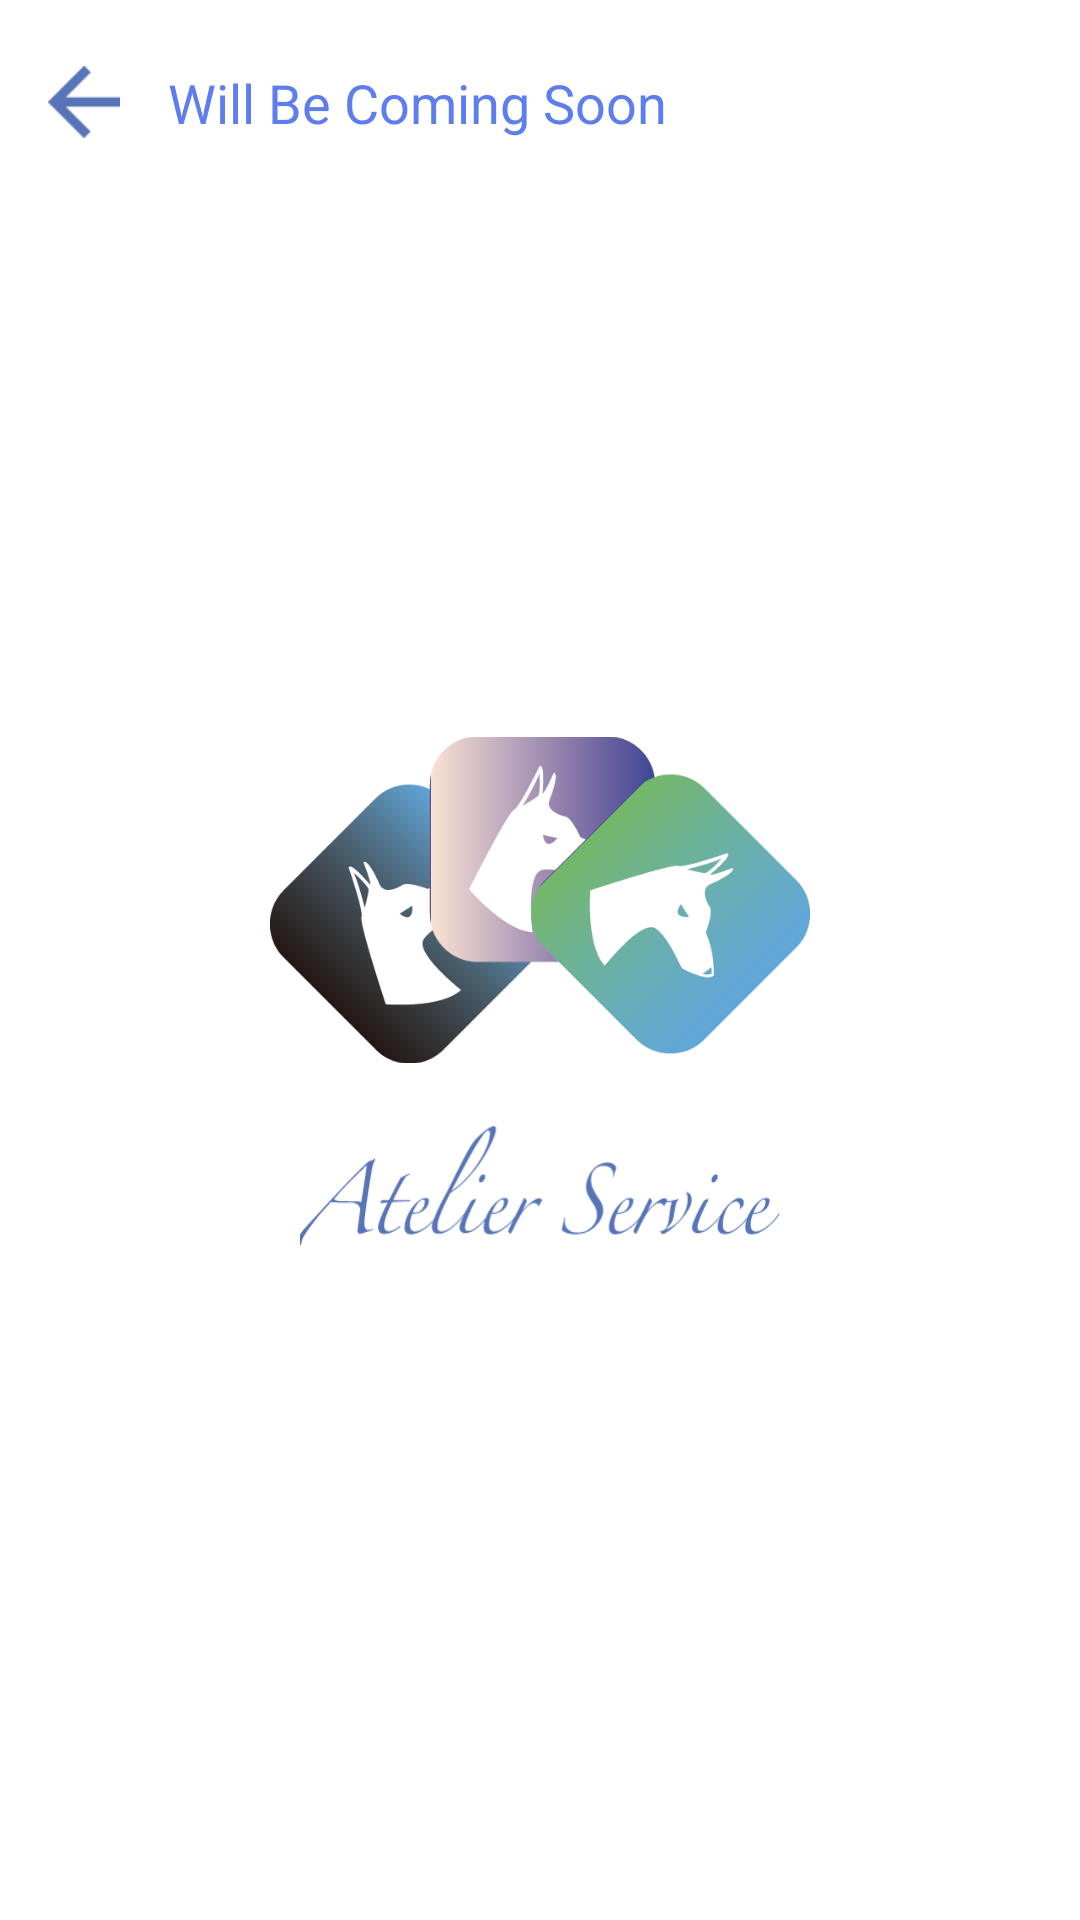

Icons on this 1080×1920 Android screen, each with the point to tap as point (x, y):
global back: point (84, 102)
